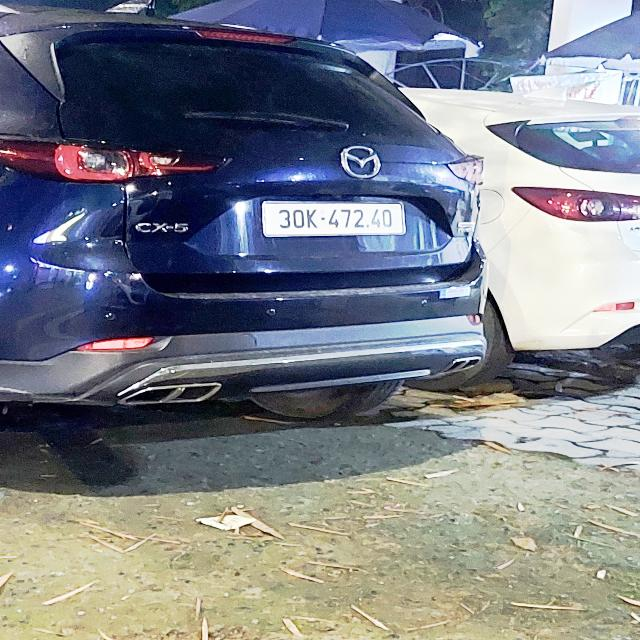license_plate: (258, 199, 411, 240)
